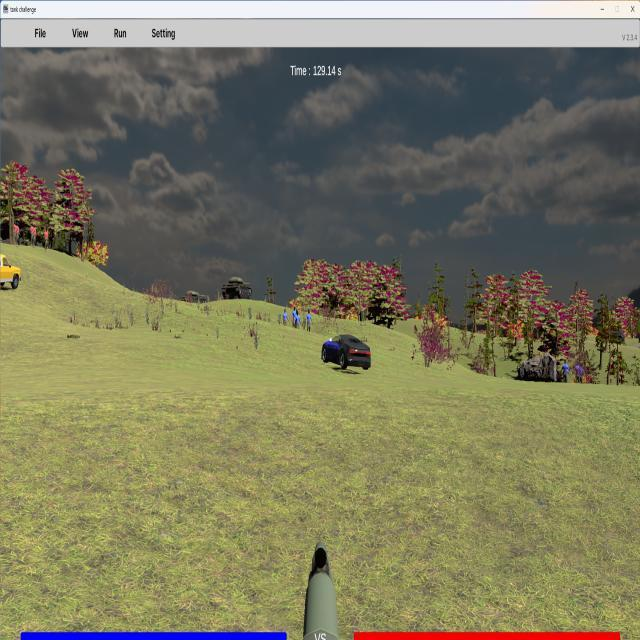Tank: (221, 276, 253, 300)
car: (321, 333, 371, 370), (0, 253, 22, 292)
